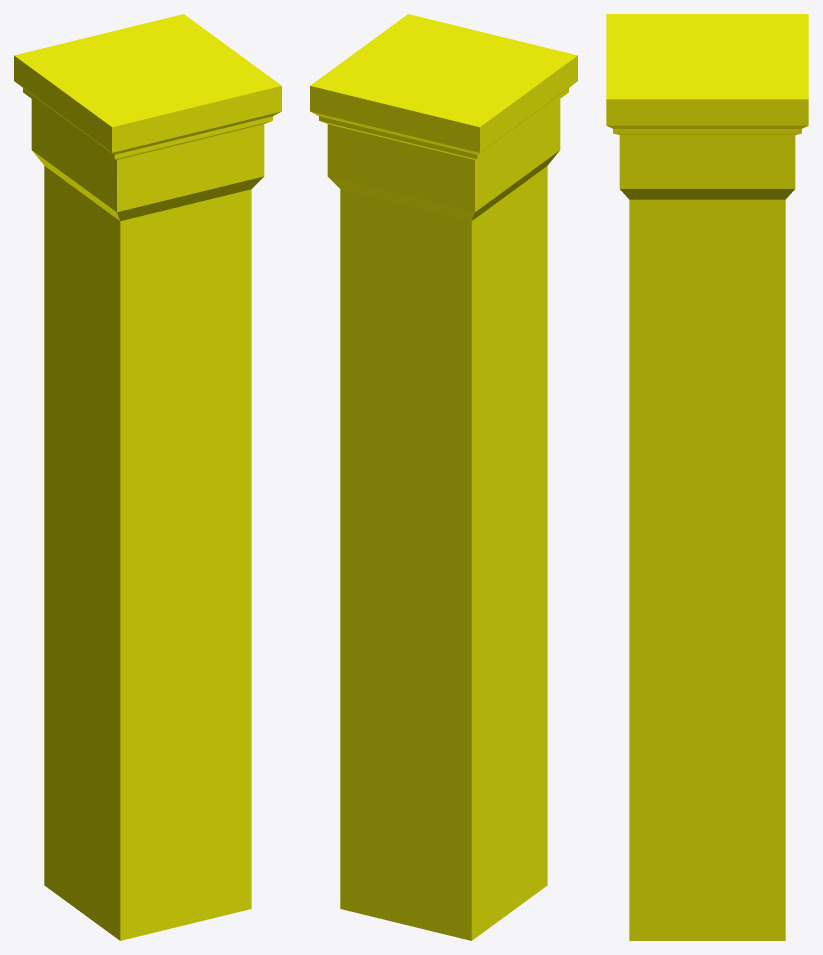
The model's file is metal-column-top.glb.
3 renders of one model, left to right at view 1: azimuth 30°, elevation 25°; view 2: azimuth 150°, elevation 25°; view 3: azimuth 270°, elevation 25°, orthographic. The views are drawn at different scales.
Visible parts, largest first — view 1: Metal_Column_Top; view 2: Metal_Column_Top; view 3: Metal_Column_Top.
Part boxes in pixels (box(x1,y1,x2,y2)): Metal_Column_Top: box(14, 14, 281, 940); Metal_Column_Top: box(310, 14, 577, 940); Metal_Column_Top: box(606, 14, 808, 940).
Size of the model in its own units: 0.6441 by 3 by 0.6446.
1 material, 1 textured.
